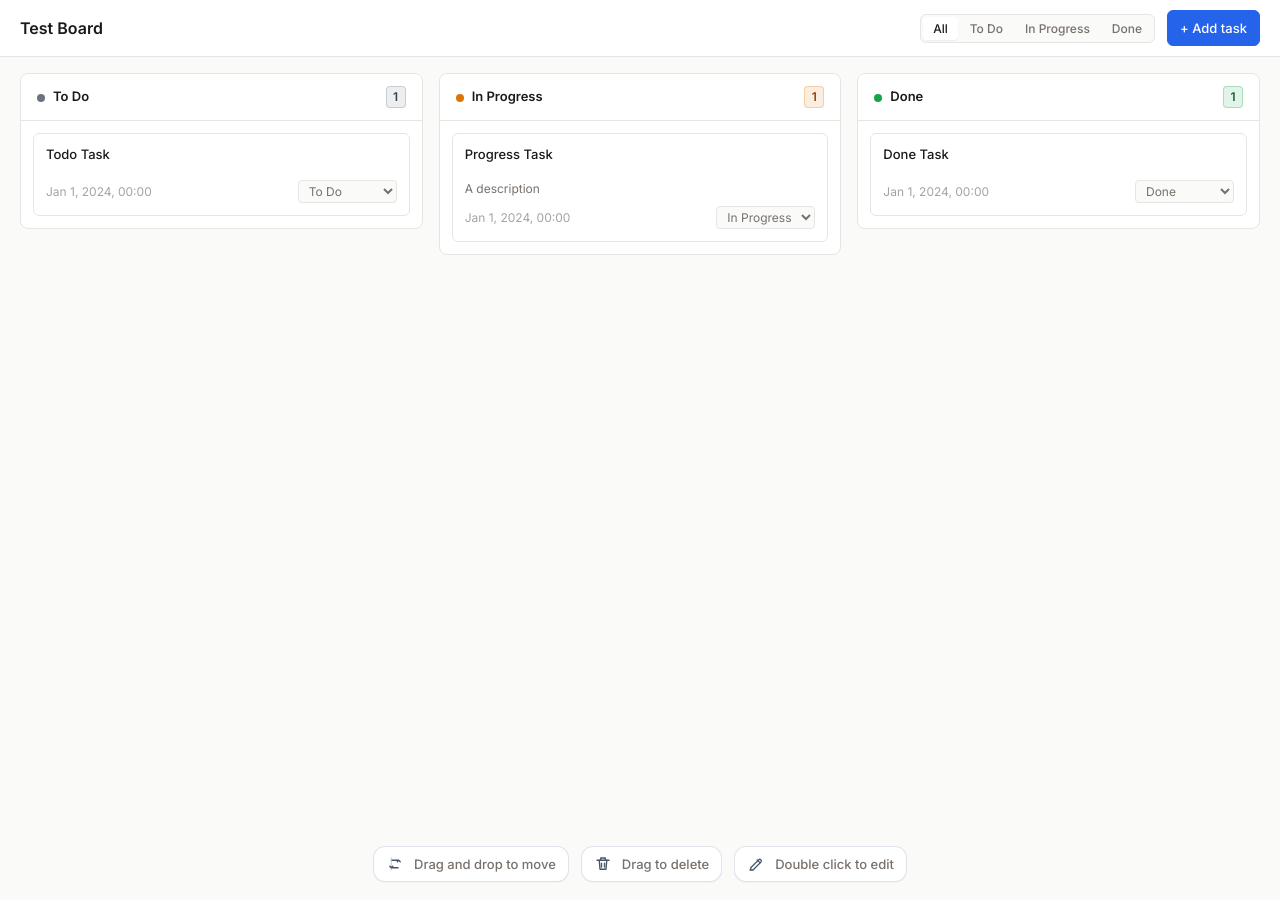
TaskBoard › validates an empty title before saving an edit
Double-click the text "Todo Task": (78, 154) [46,146,110,162]
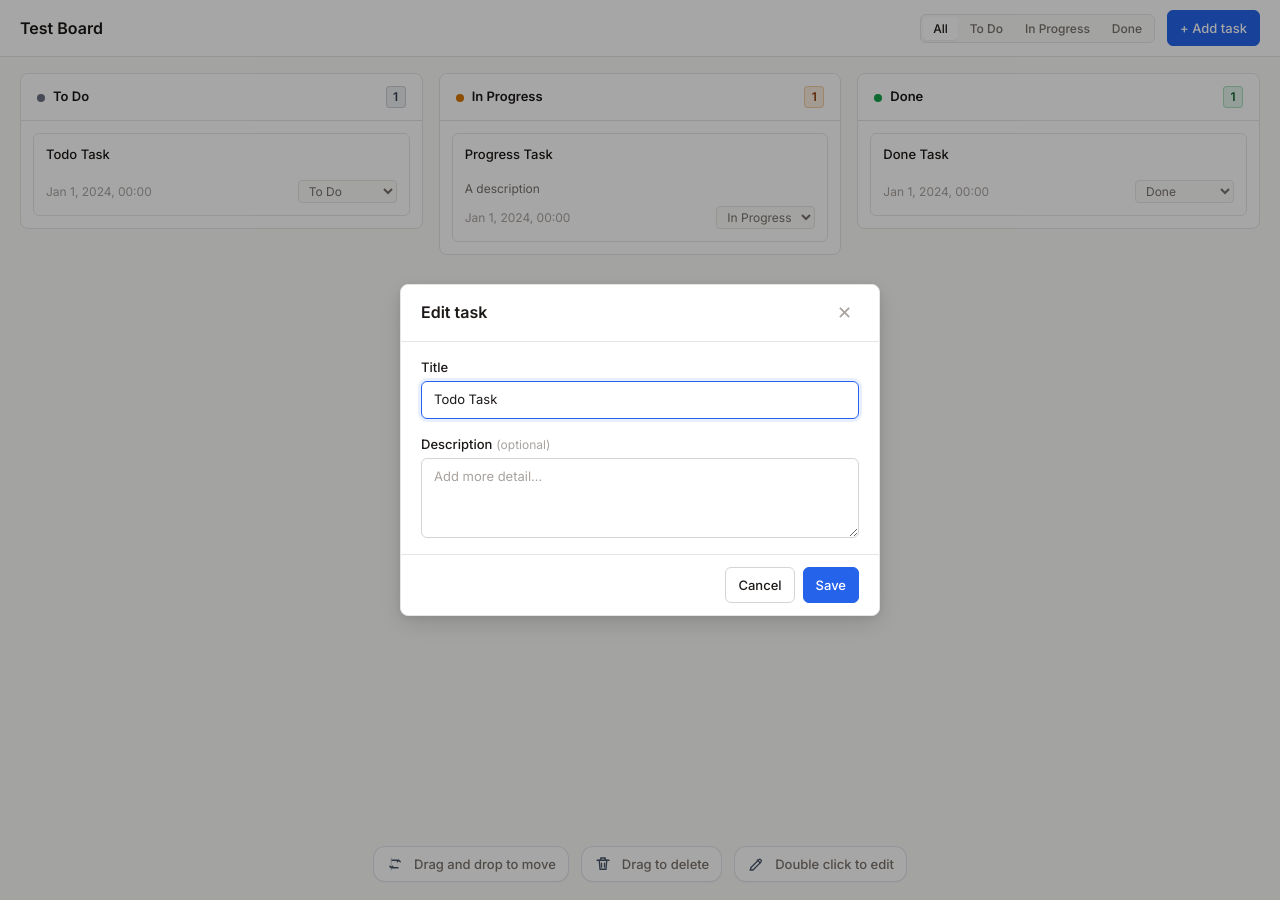
Clear the field labelled "Title": (640, 400) [421,381,859,419]
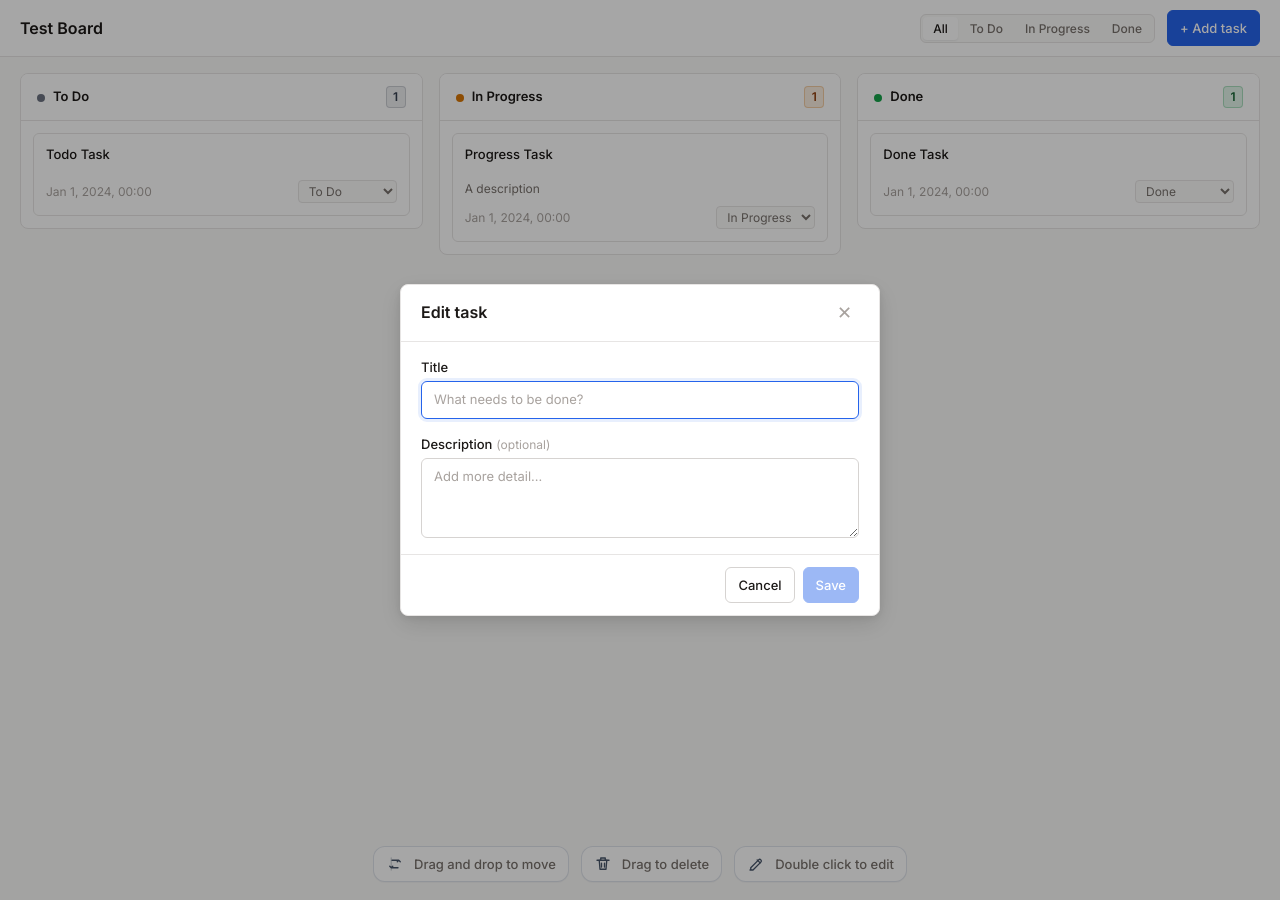
Now the button "Save" is disabled, box [802,567,859,603]
